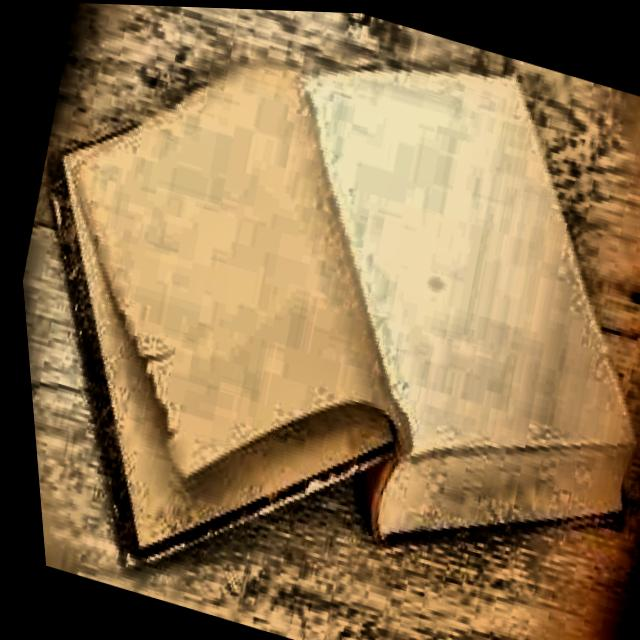Paper: (0, 0, 640, 640), (0, 0, 485, 535), (205, 6, 640, 518)
